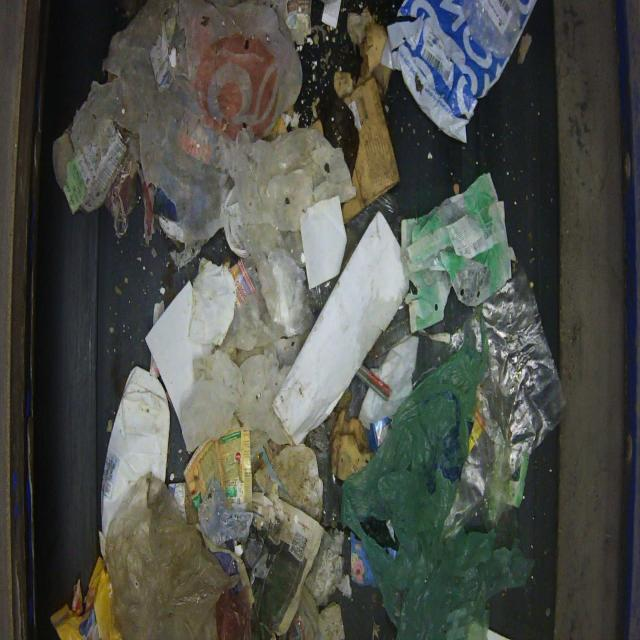other-trash: (48, 0, 564, 638)
paper: (270, 210, 409, 444)
